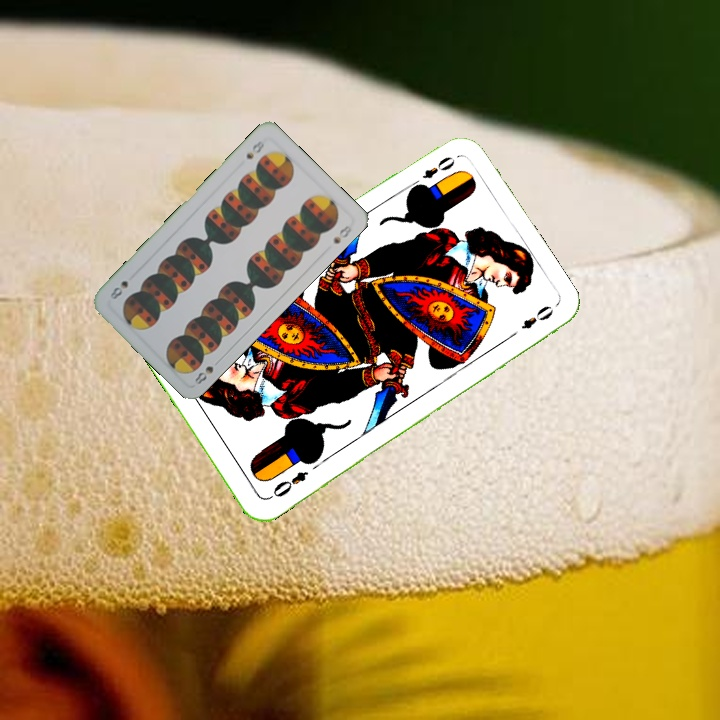EO: (406, 152, 458, 190), (264, 467, 311, 502)
S8: (190, 355, 224, 387), (242, 136, 267, 162)
